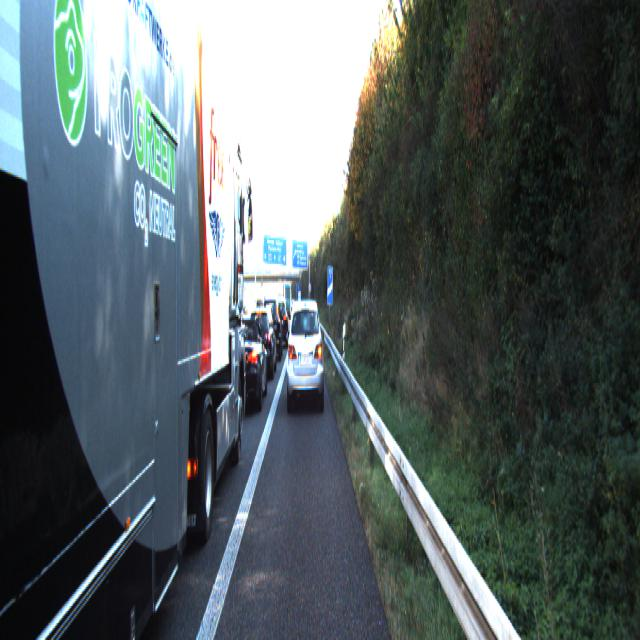Car: (11, 0, 247, 639), (222, 316, 268, 414), (286, 296, 324, 412), (245, 305, 277, 381), (260, 298, 284, 364)
